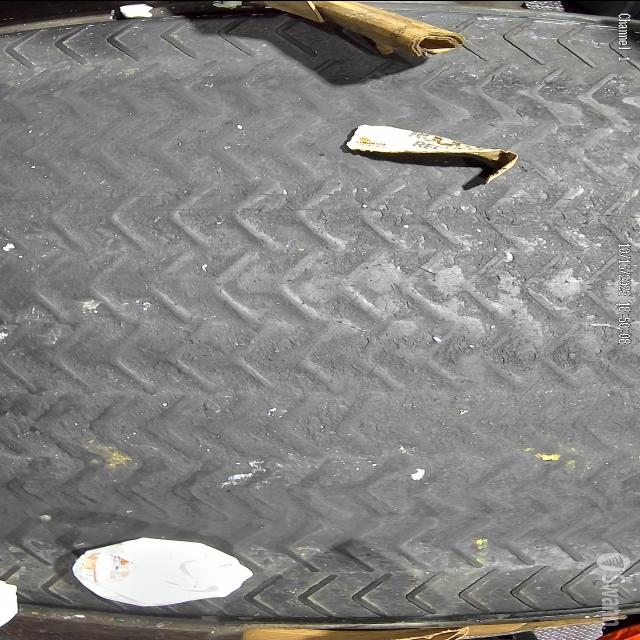milk_jug: (74, 536, 254, 606)
